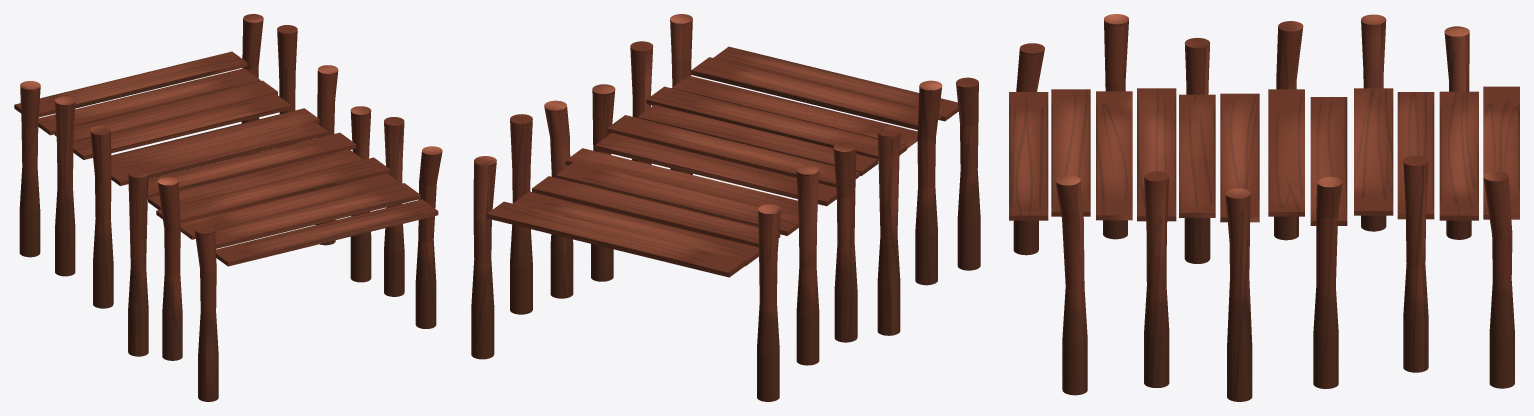
The model's file is Ponton.fbx.
The picture shows the model from 3 angles, left to right: view 1: azimuth 30°, elevation 25°; view 2: azimuth 150°, elevation 25°; view 3: azimuth 270°, elevation 25°; orthographic projection. The views are drawn at different scales.
Parts seen in each view (by area): view 1: BoutPonton; view 2: BoutPonton; view 3: BoutPonton.
Part boxes in pixels (bbox=[...]): BoutPonton: bbox=[14, 14, 442, 401]; BoutPonton: bbox=[471, 14, 980, 401]; BoutPonton: bbox=[1009, 14, 1519, 401].
Bounding box in the file's own units: 2024 × 1439 × 2788.
1 material, 1 textured.
